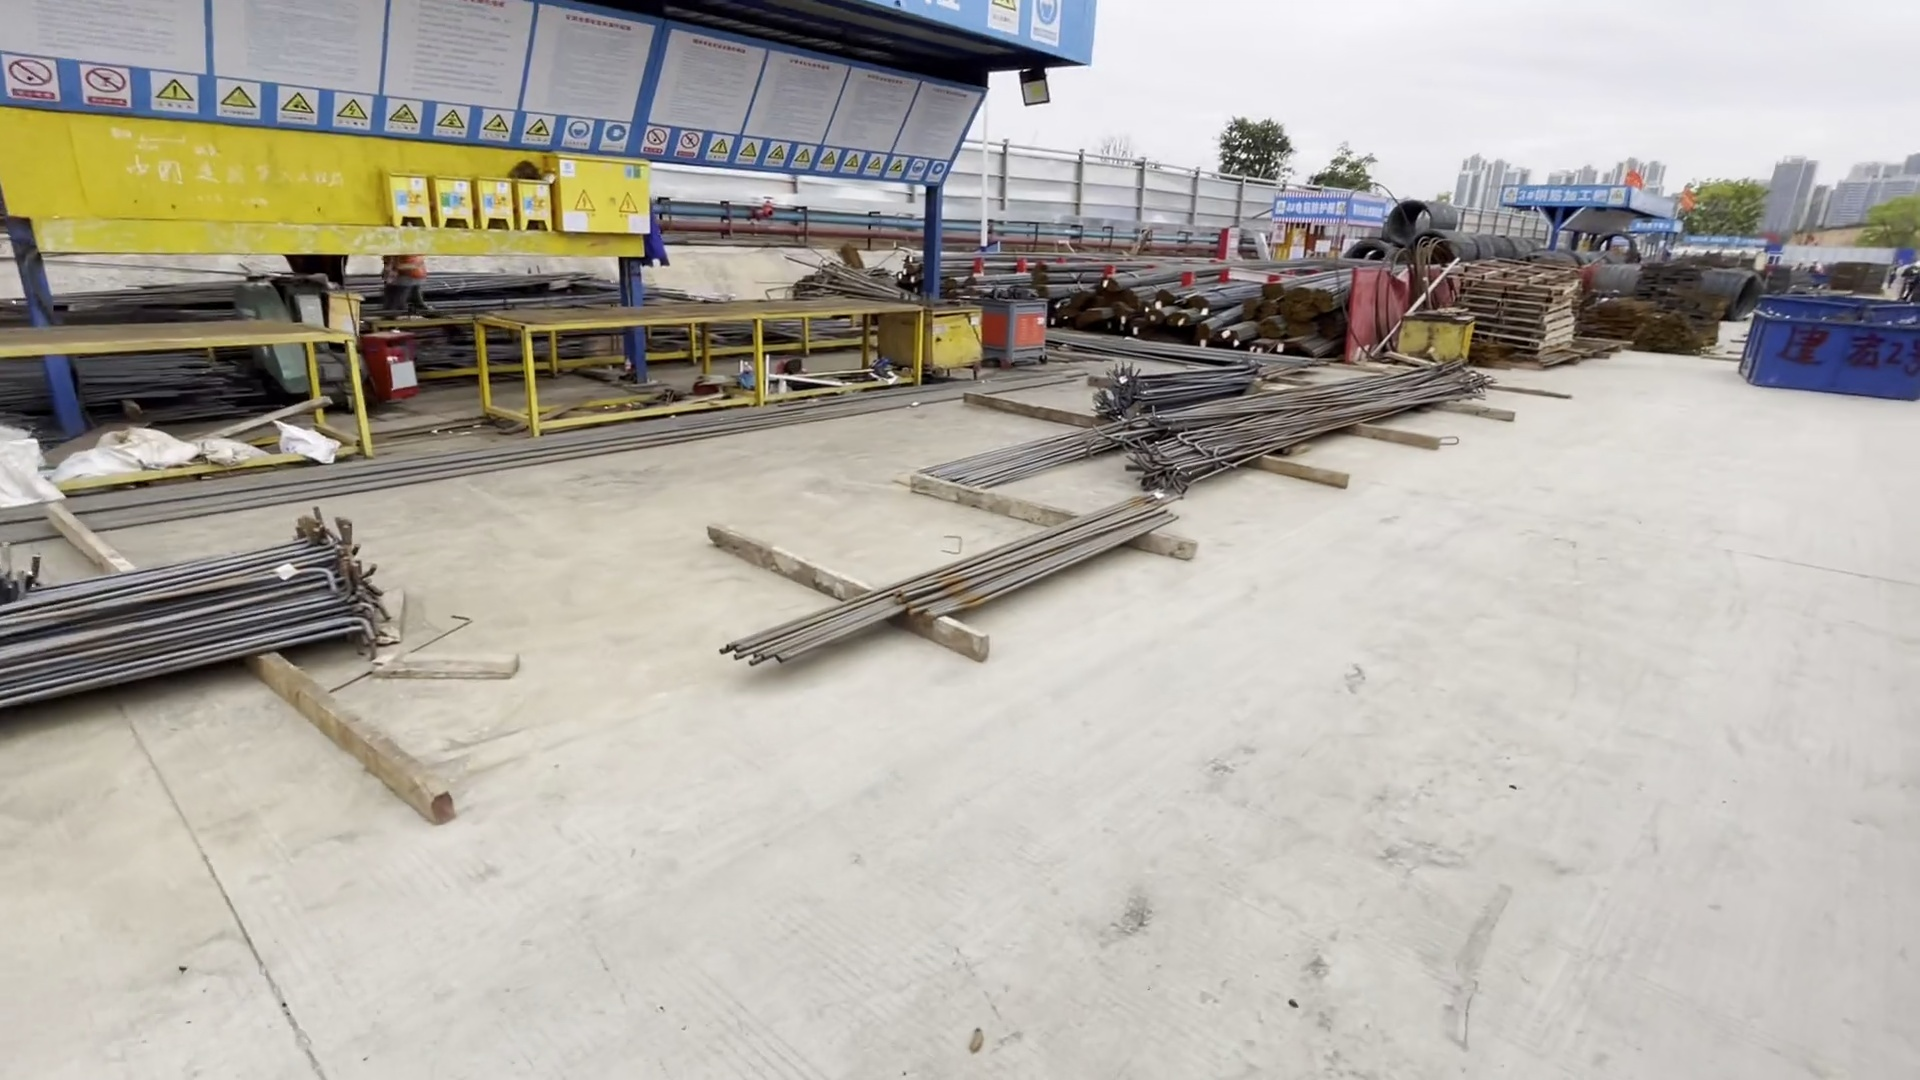ebox: (322, 156, 662, 247)
hopper: (1729, 295, 1920, 418)
rebar: (700, 349, 1493, 669), (1, 506, 402, 715), (930, 251, 1369, 363)
slogan: (1, 1, 1106, 187)
